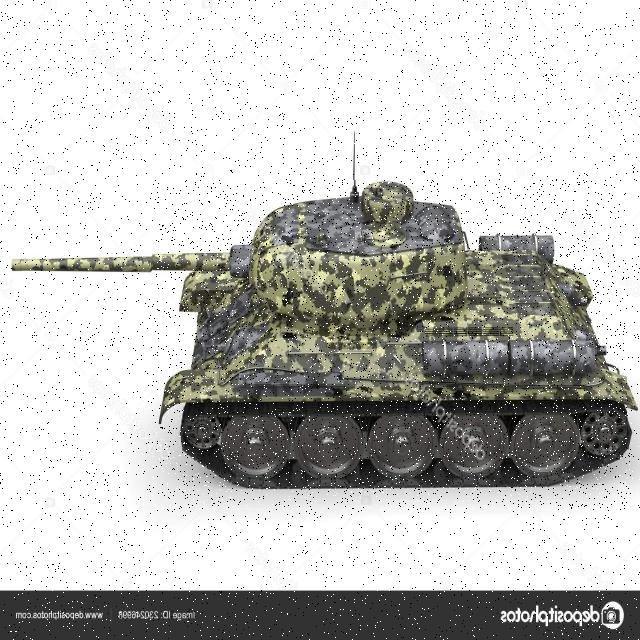MIL_MBT: (152, 180, 627, 510)
